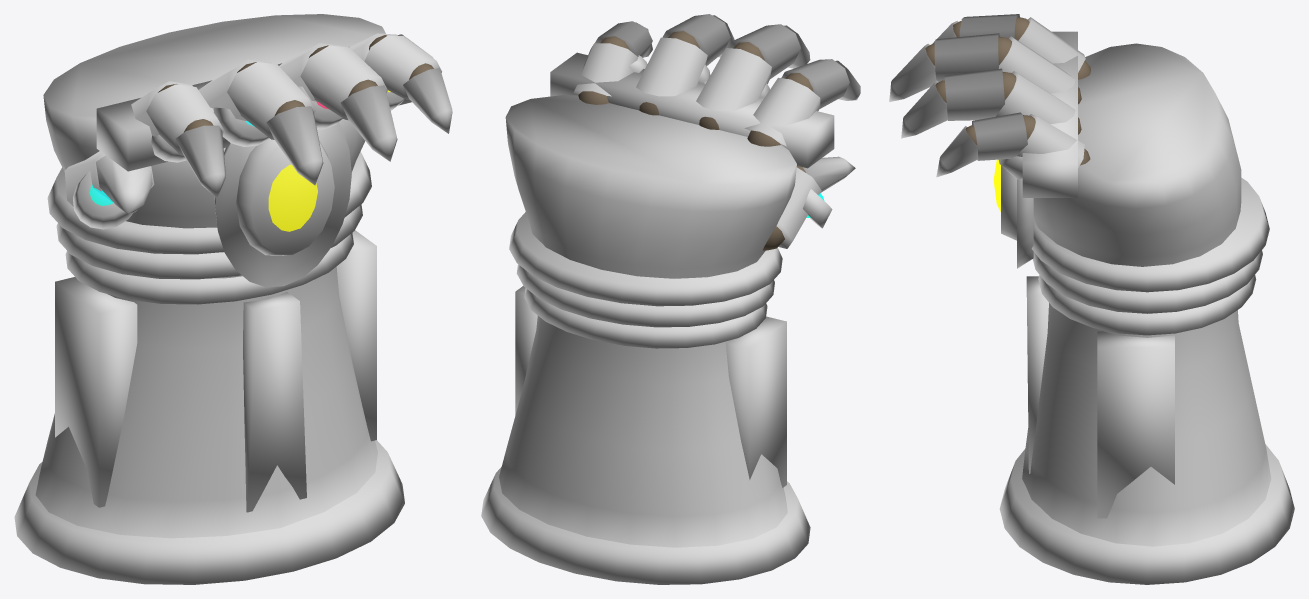
Rendered from manopla_thanos.glb.
The picture shows the model from 3 angles, left to right: view 1: azimuth 30°, elevation 25°; view 2: azimuth 150°, elevation 25°; view 3: azimuth 270°, elevation 25°; orthographic projection. The views are drawn at different scales.
Parts seen in each view (by area): view 1: Gauntlet_Base_Hull, Elbow_Cuff_Rim, Forearm_SideArmor_-1, Forearm_Dorsal_Armor, Mind_Bezel, Mind_Star_Plate, Wrist_Lame_0, Wrist_Lame_2, Forearm_SideArmor_1, Wrist_Lame_1, Knuckle_Bridge_Bar, Middle_Plate_1 (+16 smaller); view 2: Gauntlet_Base_Hull, Elbow_Cuff_Rim, Wrist_Lame_2, Forearm_SideArmor_-1, Knuckle_Bridge_Bar, Wrist_Lame_1, Wrist_Lame_0, Middle_Plate_0, Ring_Plate_0, Index_Plate_0, Pinky_Plate_0, Middle_Plate_1 (+7 smaller); view 3: Gauntlet_Base_Hull, Elbow_Cuff_Rim, Forearm_SideArmor_1, Wrist_Lame_2, Wrist_Lame_1, Wrist_Lame_0, Knuckle_Bridge_Bar, Ring_Plate_1, Forearm_Dorsal_Armor, Middle_Plate_1, Pinky_Plate_1, Ring_Plate_0 (+9 smaller).
Part boxes in pixels (x1,y1,x2,y2): Gauntlet_Base_Hull: (35, 14, 385, 538); Elbow_Cuff_Rim: (14, 440, 404, 584); Forearm_SideArmor_-1: (55, 277, 137, 507); Forearm_Dorsal_Armor: (243, 292, 306, 512); Mind_Bezel: (236, 139, 334, 255); Mind_Star_Plate: (214, 122, 351, 287); Wrist_Lame_0: (65, 232, 353, 304); Wrist_Lame_2: (47, 151, 371, 254); Forearm_SideArmor_1: (336, 230, 376, 441); Wrist_Lame_1: (56, 204, 362, 279); Knuckle_Bridge_Bar: (96, 34, 433, 171); Middle_Plate_1: (227, 62, 315, 139); Gauntlet_Base_Hull: (499, 95, 796, 547); Elbow_Cuff_Rim: (481, 467, 810, 584); Wrist_Lame_2: (509, 212, 782, 306); Forearm_SideArmor_-1: (725, 316, 786, 487); Knuckle_Bridge_Bar: (550, 52, 834, 168); Wrist_Lame_1: (516, 264, 774, 327); Wrist_Lame_0: (524, 288, 767, 348); Middle_Plate_0: (696, 48, 771, 111); Ring_Plate_0: (636, 37, 707, 96); Index_Plate_0: (744, 77, 820, 146); Pinky_Plate_0: (573, 43, 638, 96); Middle_Plate_1: (728, 24, 800, 78); Gauntlet_Base_Hull: (1022, 43, 1271, 546); Elbow_Cuff_Rim: (999, 444, 1294, 584); Forearm_SideArmor_1: (1097, 331, 1174, 518); Wrist_Lame_2: (1031, 177, 1269, 292); Wrist_Lame_1: (1032, 250, 1262, 313); Wrist_Lame_0: (1038, 275, 1256, 335); Knuckle_Bridge_Bar: (1022, 31, 1077, 197); Ring_Plate_1: (944, 68, 1004, 120); Forearm_Dorsal_Armor: (1026, 276, 1048, 473); Middle_Plate_1: (934, 33, 999, 81); Pinky_Plate_1: (972, 112, 1027, 160); Ring_Plate_0: (996, 71, 1075, 124).
Bounding box in the file's own units: 1.3 × 1.82 × 1.47.
